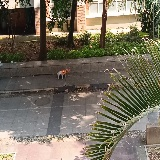fire: (60, 68, 70, 75)
